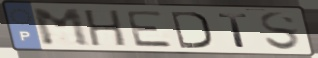D: (169, 10, 214, 50)
E: (123, 10, 176, 49)
H: (83, 8, 129, 48)
M: (29, 8, 94, 48)
S: (258, 11, 304, 53)
T: (216, 12, 252, 49)
